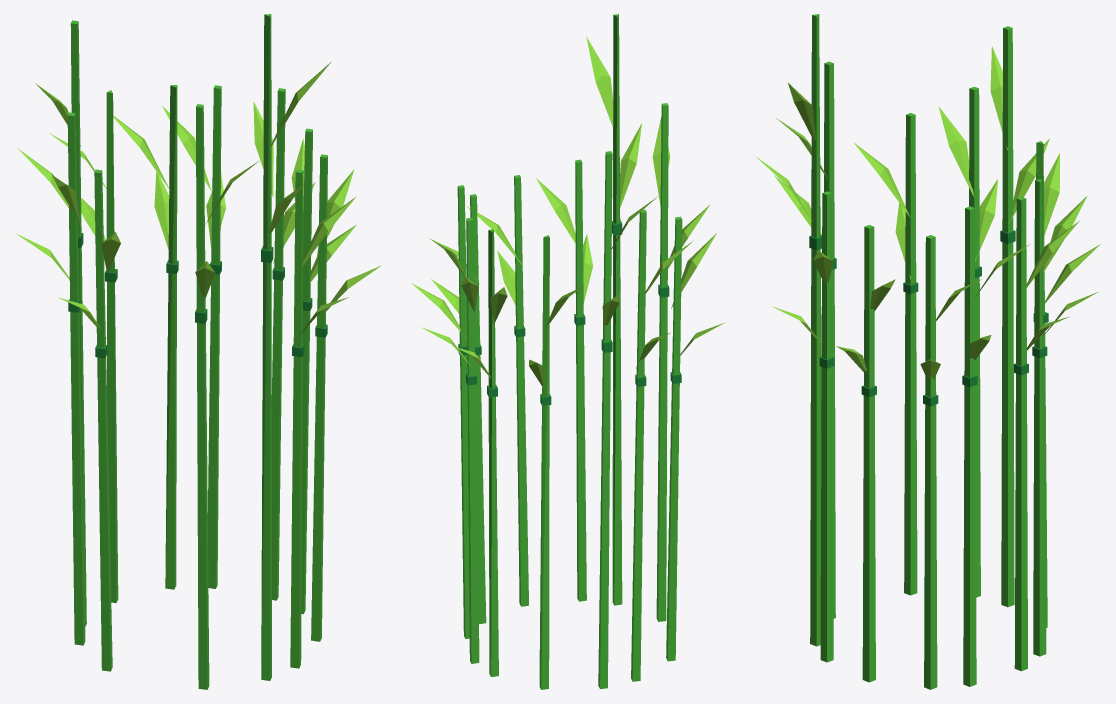
The model's file is bamboo_clump.fbx.
The picture shows the model from 3 angles, left to right: view 1: azimuth 30°, elevation 25°; view 2: azimuth 150°, elevation 25°; view 3: azimuth 270°, elevation 25°; orthographic projection. The views are drawn at different scales.
Visible parts, largest first — view 1: bamboo_clump; view 2: bamboo_clump; view 3: bamboo_clump.
Part boxes in pixels (<box>): bamboo_clump: <box>15,14,381,689</box>; bamboo_clump: <box>412,14,724,689</box>; bamboo_clump: <box>754,14,1100,689</box>.
Size of the model in its own units: 3 by 6 by 3.
